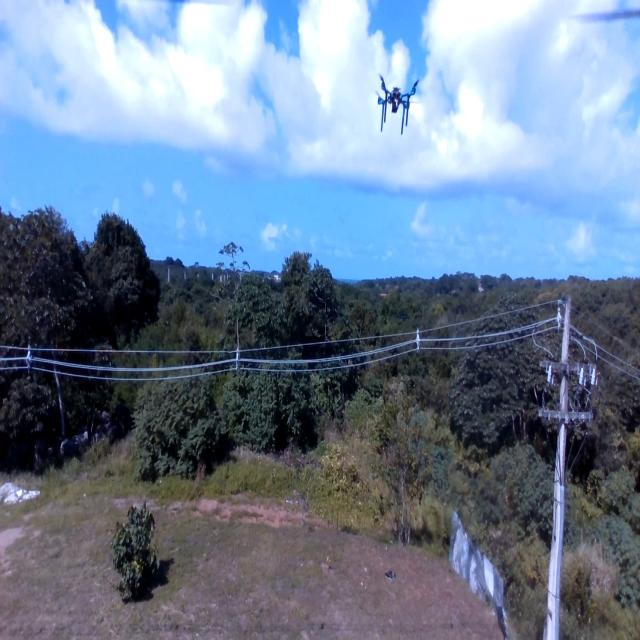-uav-: (370, 61, 425, 142)
